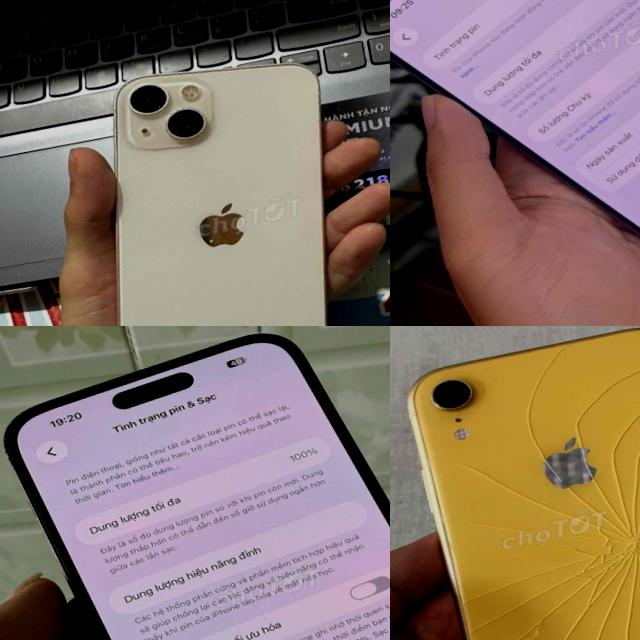gen_12_13: (52, 30, 390, 326)
gen_14: (0, 326, 390, 640)
gen_16: (390, 0, 640, 233)
gen_x_xs: (394, 326, 640, 640)
